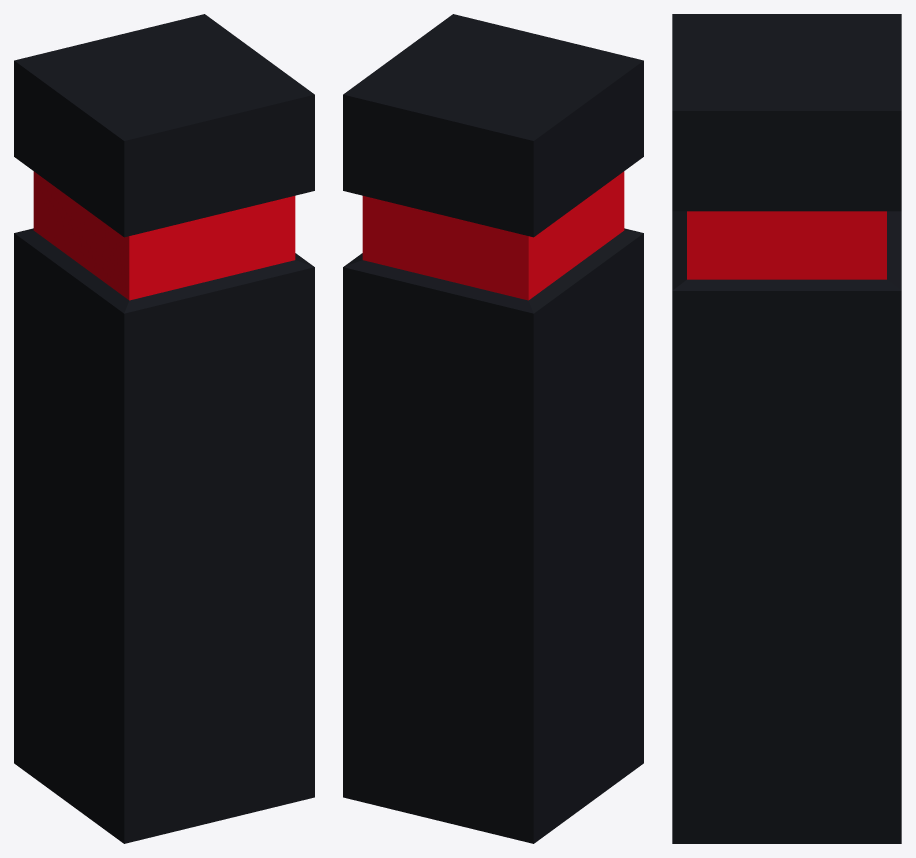
File: test_handrail_pillar.fbx
3 renders of one model, left to right at view 1: azimuth 30°, elevation 25°; view 2: azimuth 150°, elevation 25°; view 3: azimuth 270°, elevation 25°, orthographic. The views are drawn at different scales.
Parts seen in each view (by area): view 1: Cube.062; view 2: Cube.062; view 3: Cube.062.
Boxes of the visible parts, x1,y1,x2,y2 form: Cube.062: [14, 14, 314, 843]; Cube.062: [343, 14, 643, 843]; Cube.062: [672, 14, 901, 843].
Size of the model in its own units: 25.81 by 90.92 by 25.81.
